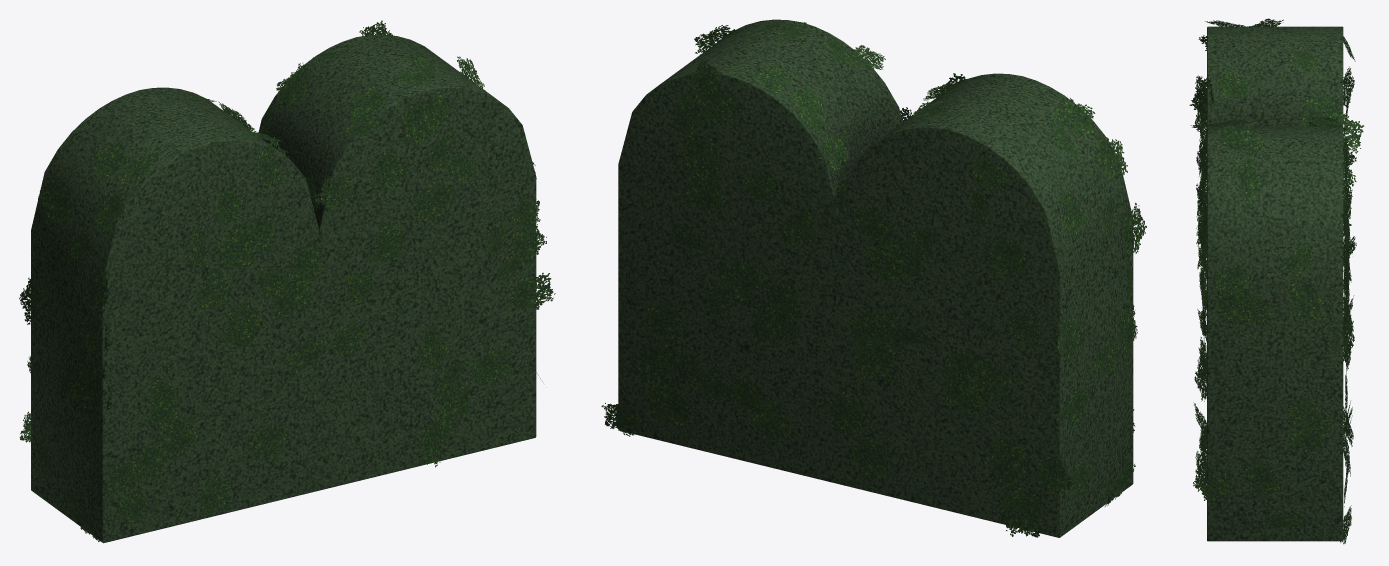
The model's file is HedgeStraight.fbx.
3 renders of one model, left to right at view 1: azimuth 30°, elevation 25°; view 2: azimuth 150°, elevation 25°; view 3: azimuth 270°, elevation 25°, orthographic. The views are drawn at different scales.
Parts seen in each view (by area): view 1: HedgeStraight_Main, HedgeStraight_Leaves; view 2: HedgeStraight_Main, HedgeStraight_Leaves; view 3: HedgeStraight_Main, HedgeStraight_Leaves.
Boxes of the visible parts, box(x1,y1,x2,y2) form: HedgeStraight_Main: box(31, 34, 536, 543); HedgeStraight_Leaves: box(19, 20, 555, 541); HedgeStraight_Main: box(618, 19, 1133, 537); HedgeStraight_Leaves: box(601, 22, 1146, 537); HedgeStraight_Main: box(1207, 26, 1343, 541); HedgeStraight_Leaves: box(1189, 18, 1364, 544).
Bounding box in the file's own units: 874 × 723 × 329.
